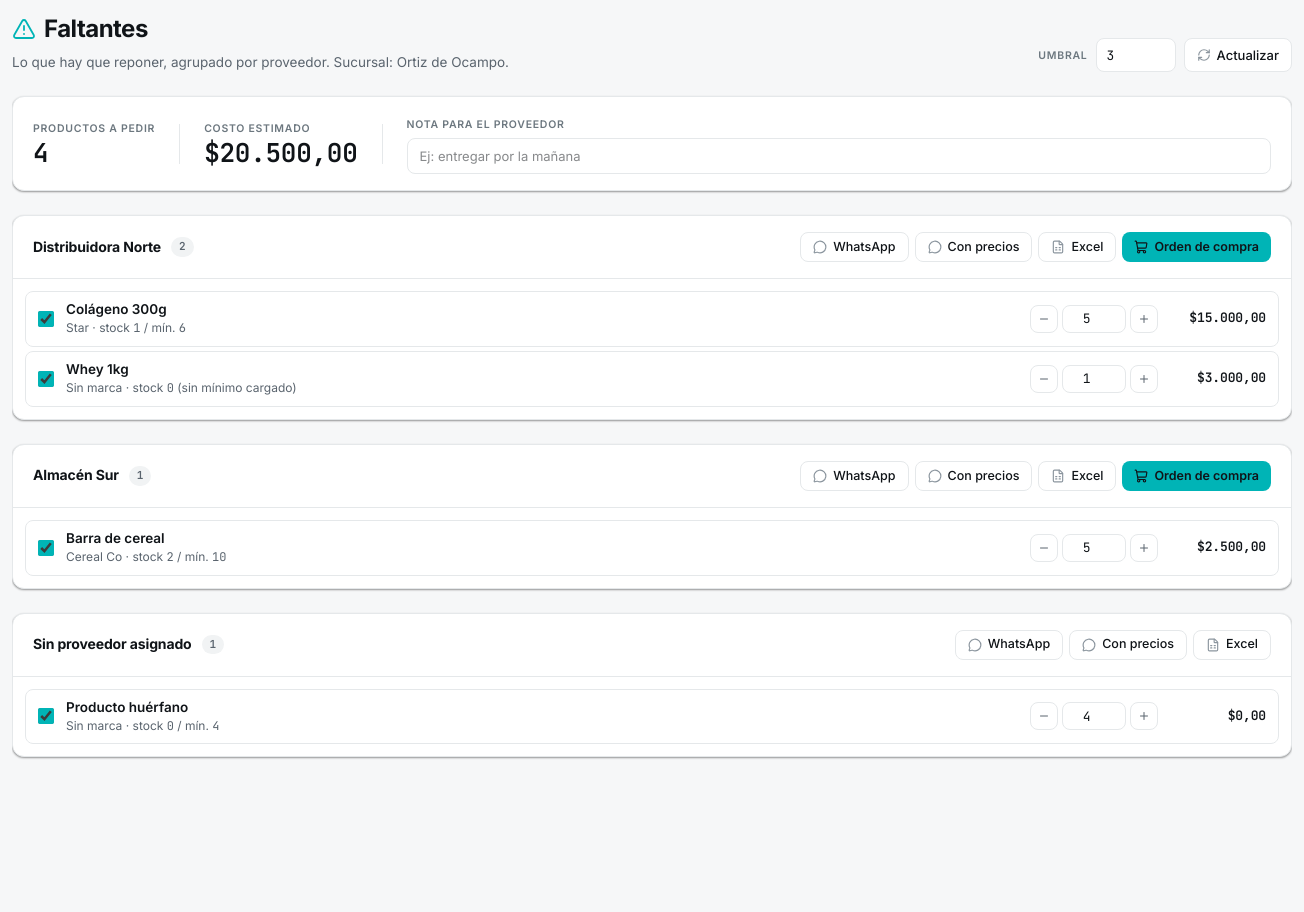
Test: Las cantidades arrancan en la sugerida y se pueden cambiar › el botón «+» suma uno y el «−» resta uno
Click the button named "Agregar uno de Colágeno 300g" at (1144, 319), box [1130,305,1158,333]
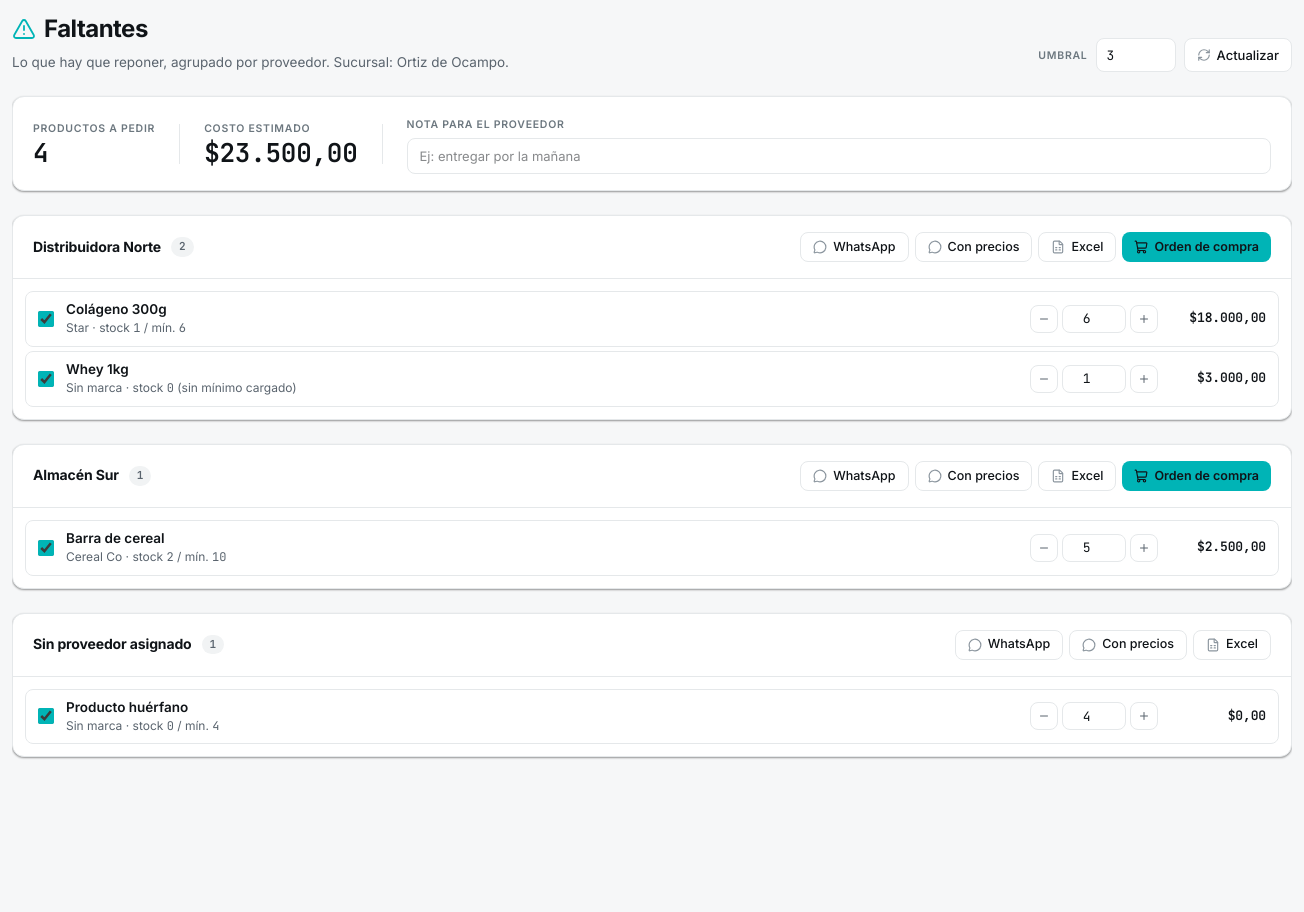
Check: the number field named "Cantidad de Colágeno 300g" holds "6", box [1062,305,1126,333]
Click the button named "Sacar uno de Colágeno 300g" at (1044, 319), box [1030,305,1058,333]
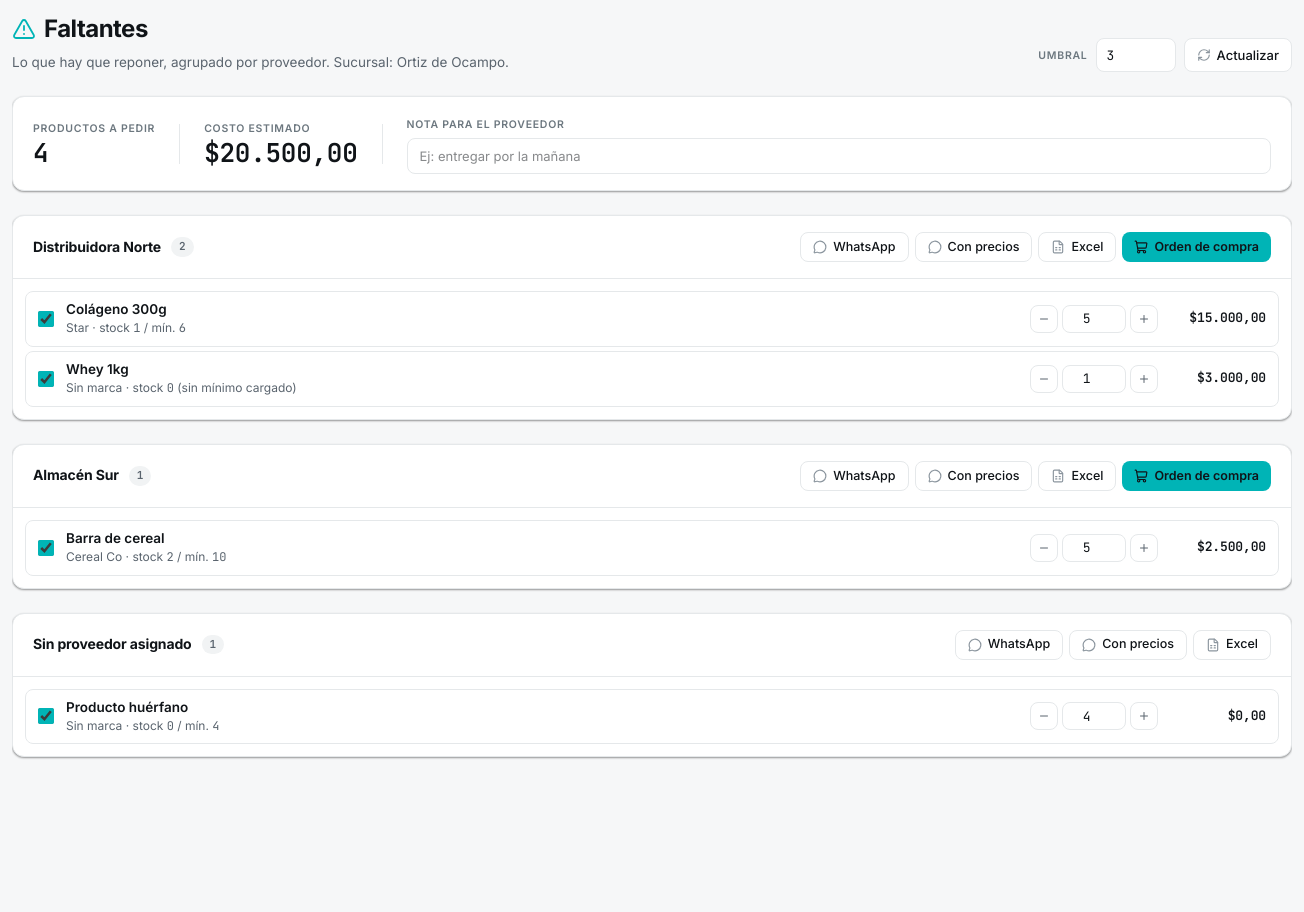
Click the button named "Sacar uno de Colágeno 300g" at (1044, 319), box [1030,305,1058,333]
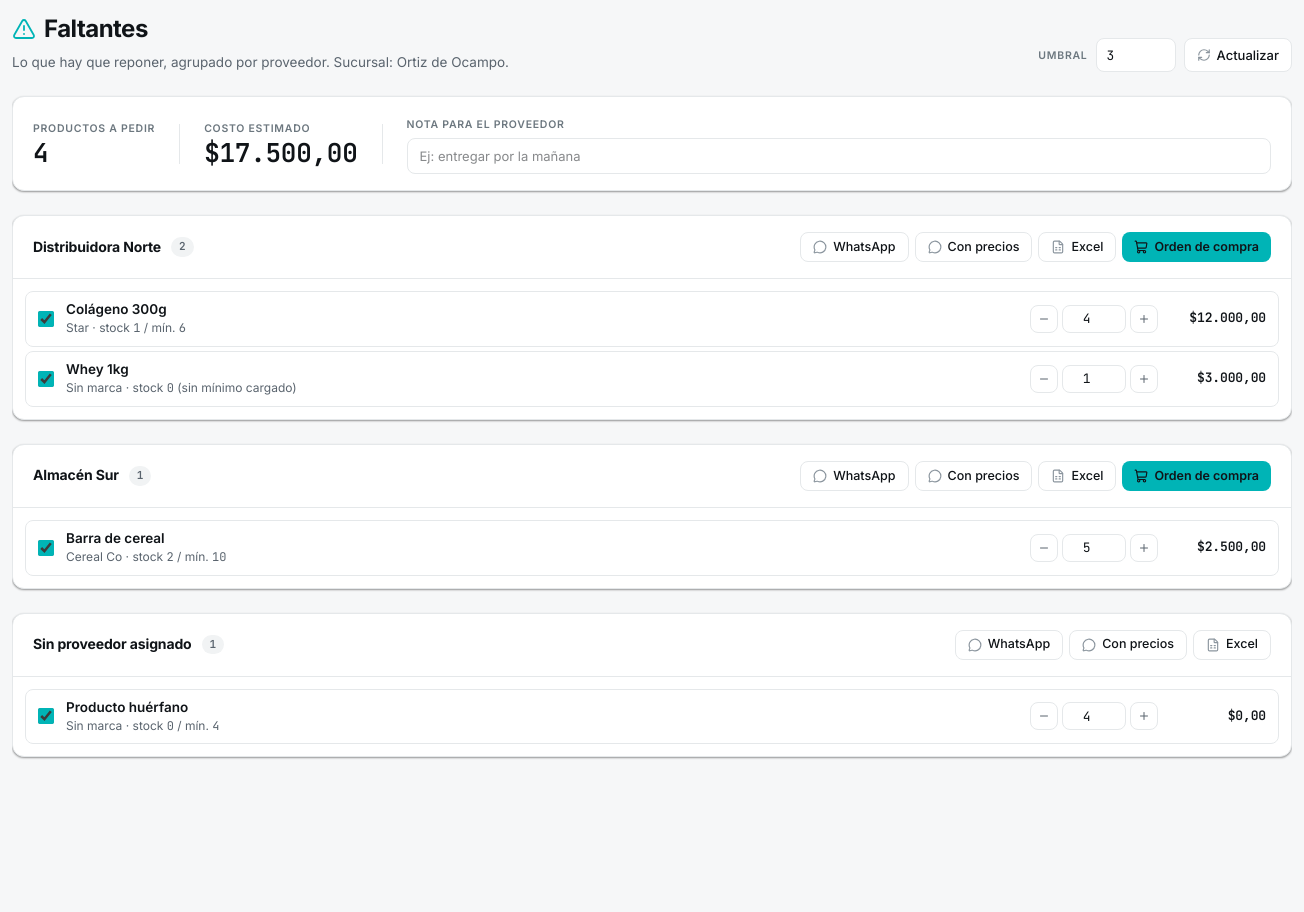
Check: the number field named "Cantidad de Colágeno 300g" holds "4", box [1062,305,1126,333]
